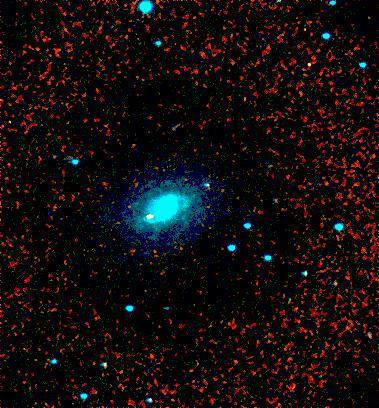star: (134, 202, 164, 232)
